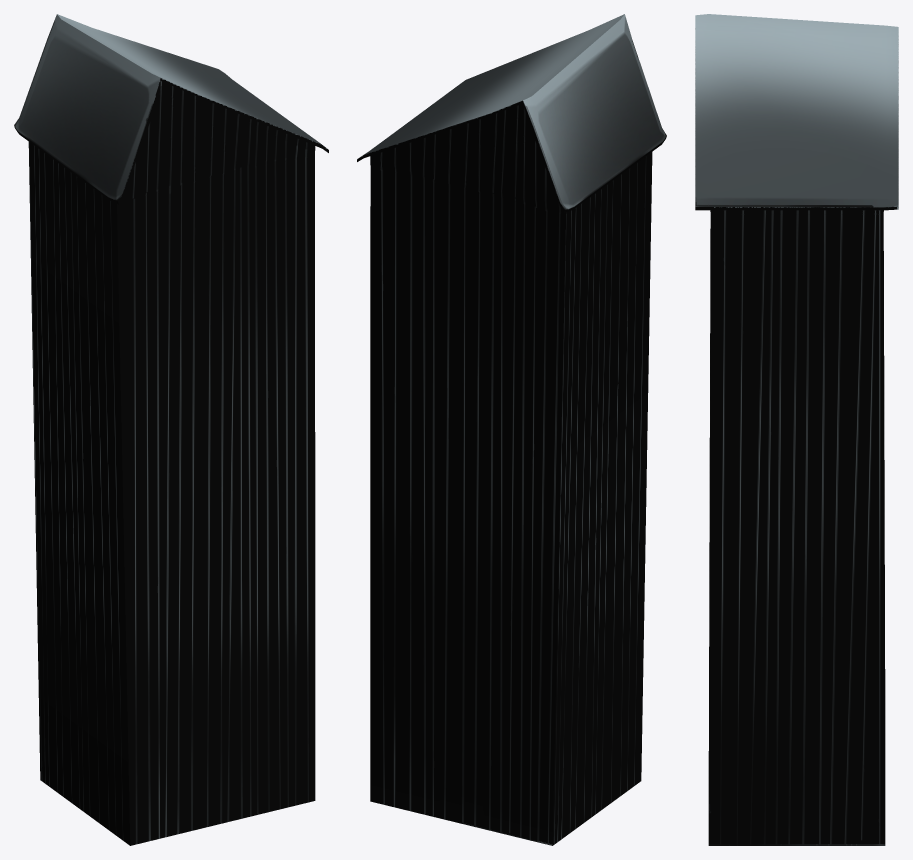
Rendered from wooden_tower.fbx.
The picture shows the model from 3 angles, left to right: view 1: azimuth 30°, elevation 25°; view 2: azimuth 150°, elevation 25°; view 3: azimuth 270°, elevation 25°; orthographic projection.
Parts seen in each view (by area): view 1: Cube.018; view 2: Cube.018; view 3: Cube.018.
Part boxes in pixels (x1,y1,x2,y2): Cube.018: [14, 14, 328, 845]; Cube.018: [357, 14, 666, 845]; Cube.018: [695, 14, 898, 845].
Bounding box in the file's own units: 619 × 2120 × 518.
